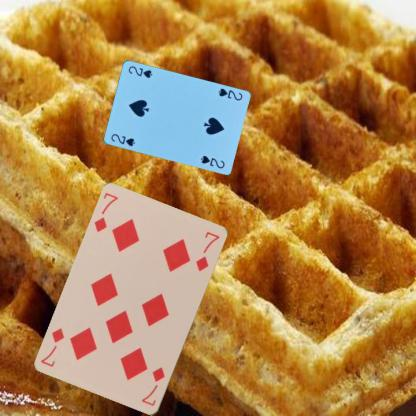2s: (108, 131, 136, 148), (216, 86, 243, 102)
7d: (91, 190, 120, 234), (139, 364, 166, 408)
